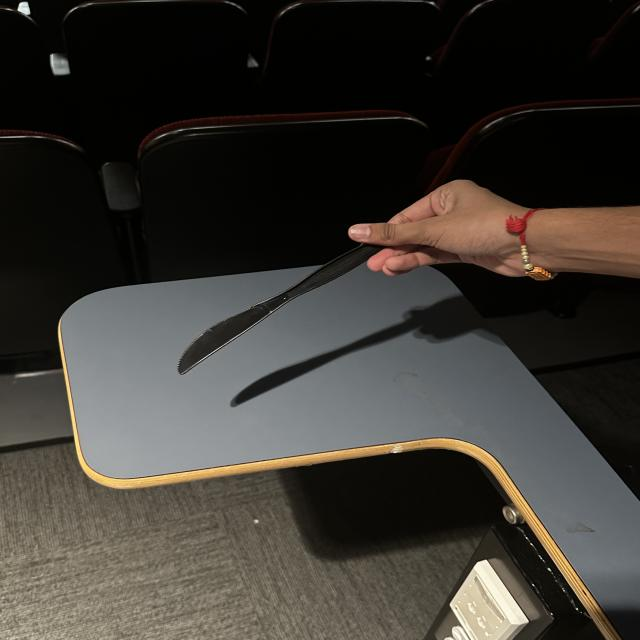knife: (138, 236, 428, 384)
